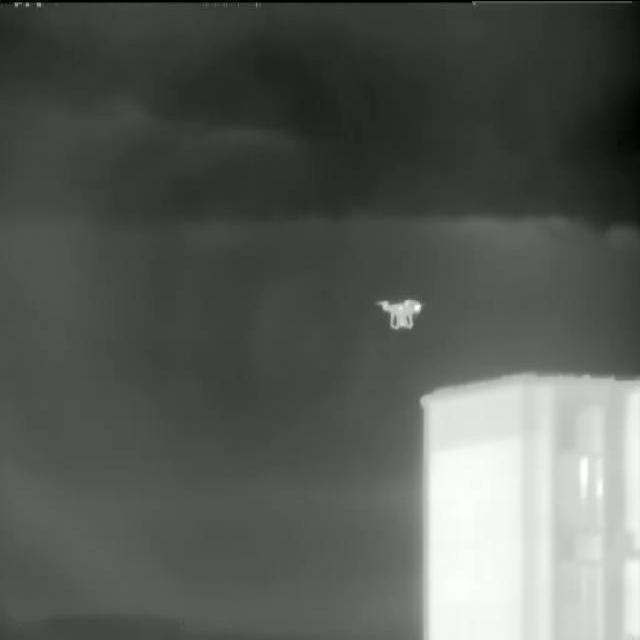DRONE: (372, 294, 428, 333)
